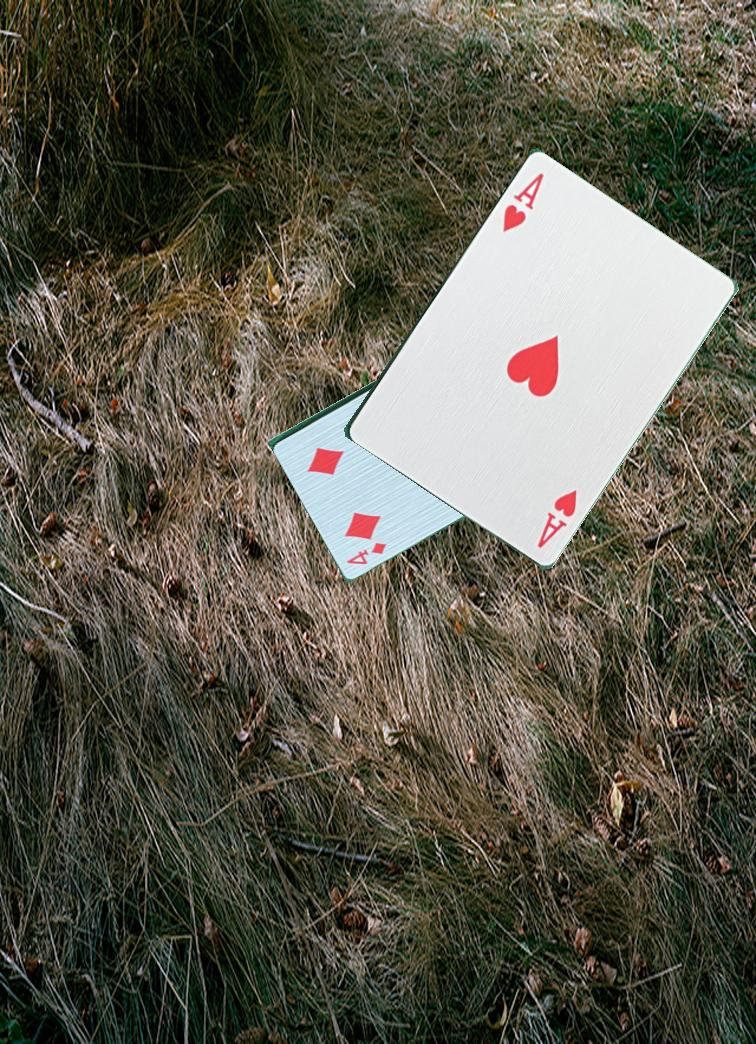4d: (343, 536, 389, 567)
ah: (533, 487, 584, 552), (499, 169, 547, 236)
